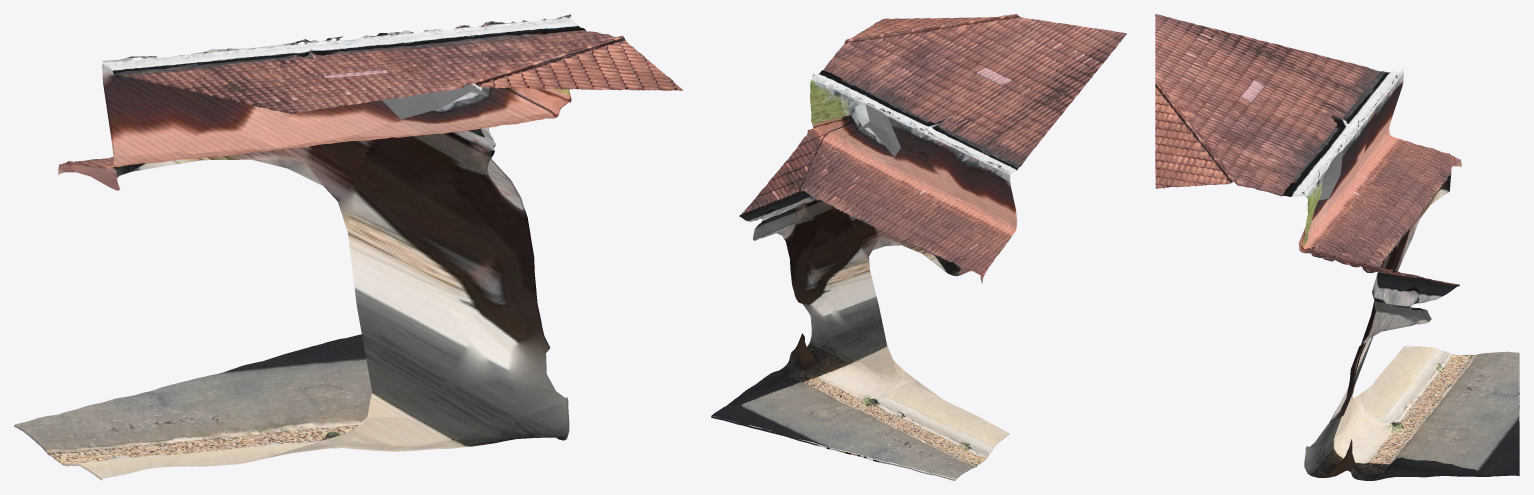
3 views of the same model, side by side, from view 1: azimuth 30°, elevation 25°; view 2: azimuth 150°, elevation 25°; view 3: azimuth 270°, elevation 25° (orthographic). The views are drawn at different scales.
Visible parts, largest first — view 1: node_141; view 2: node_141; view 3: node_141.
Boxes of the visible parts, x1=… form: node_141: x1=14, y1=14, x2=682, y2=480; node_141: x1=711, y1=14, x2=1126, y2=480; node_141: x1=1155, y1=14, x2=1519, y2=480.
Bounding box in the file's own units: 9 × 11.4 × 11.
Materials: 1 (1 with a texture image).
